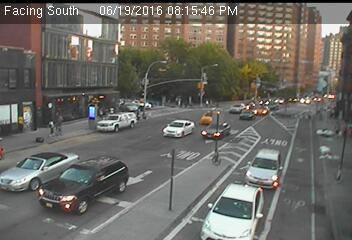neg: (297, 186, 325, 223), (28, 46, 54, 81), (93, 41, 117, 73), (56, 104, 79, 134), (256, 79, 278, 108), (302, 132, 324, 161), (266, 128, 287, 156), (107, 115, 127, 142), (155, 182, 175, 209), (198, 52, 218, 79), (151, 44, 170, 70), (216, 100, 235, 125), (104, 188, 123, 213), (235, 168, 253, 193), (146, 120, 163, 142), (186, 112, 203, 134), (276, 28, 292, 49), (195, 171, 209, 190)
